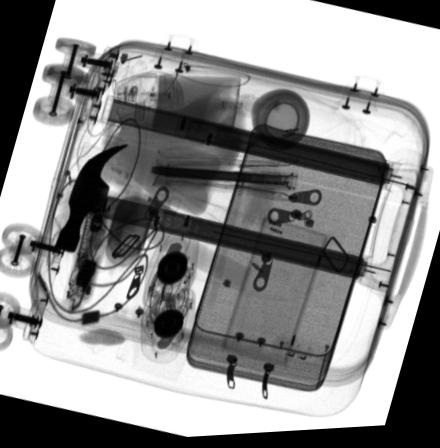Hammer: (54, 143, 250, 296)
